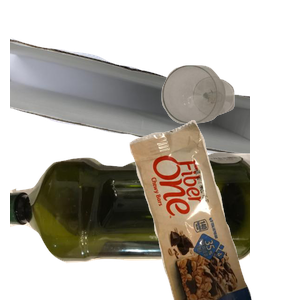cardboard: (10, 35, 250, 188)
glass: (159, 63, 300, 179)
plastic: (10, 149, 250, 300)
trash: (127, 120, 300, 300)
